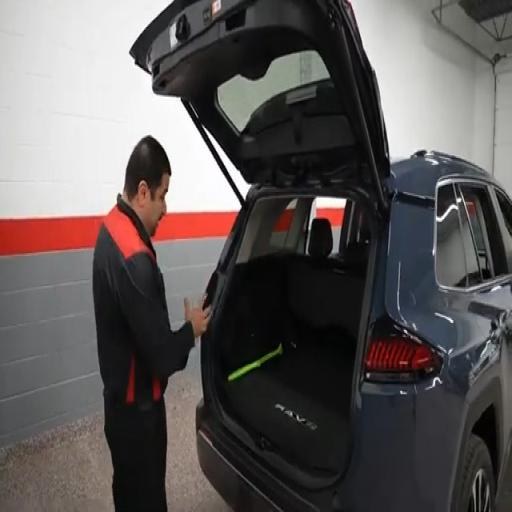bumper: (196, 400, 317, 511), (197, 430, 279, 511)
door: (455, 180, 511, 486), (502, 338, 511, 503)
emblem: (275, 404, 317, 430)
taillight: (364, 322, 443, 382)
tire: (452, 434, 495, 511)
trunk: (216, 255, 365, 476)
window: (217, 50, 329, 132), (436, 183, 505, 288), (237, 197, 345, 263), (458, 183, 507, 281), (436, 184, 467, 288), (495, 188, 511, 273)
windshield: (217, 50, 329, 132)
